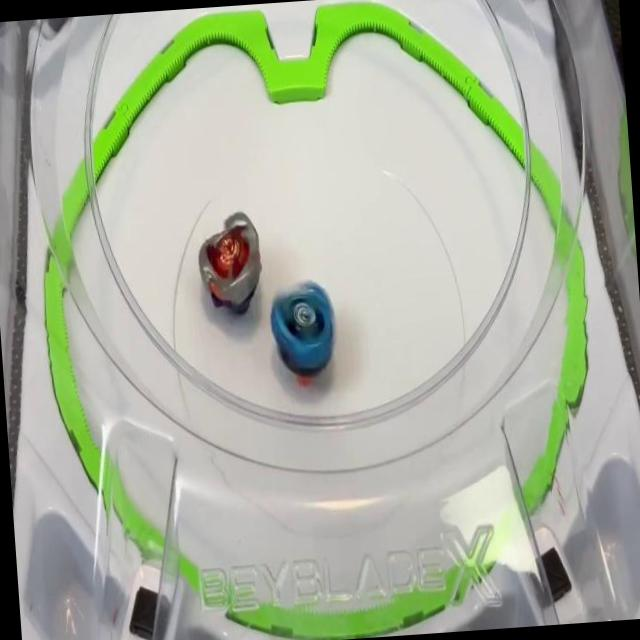Beyblade: (266, 280, 338, 386), (195, 210, 265, 316)
